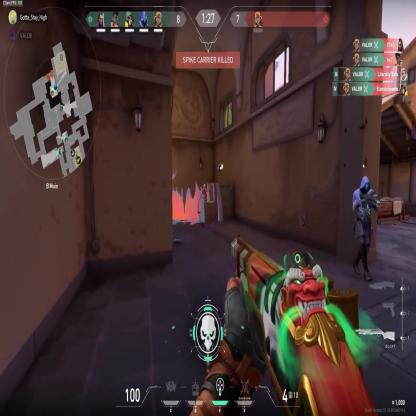enemy: (202, 184, 207, 217)
enemy_head: (203, 184, 206, 189)
